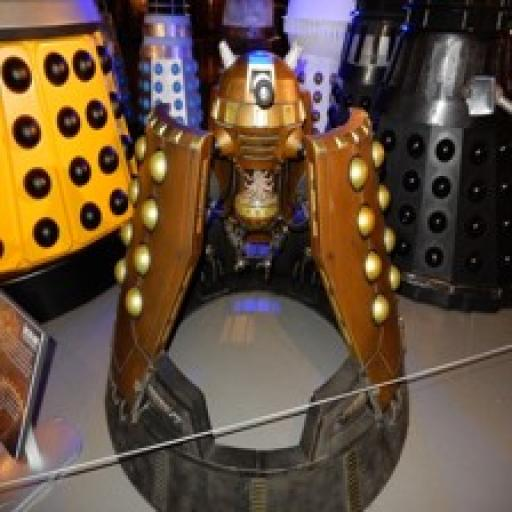dalek: (101, 39, 418, 512), (361, 0, 512, 319), (126, 0, 202, 140)
